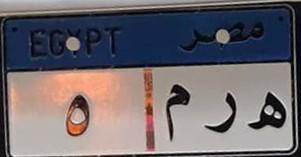5: (59, 92, 99, 137)
haa: (247, 87, 289, 136)
meem: (161, 79, 191, 144)
raa: (200, 87, 239, 135)
